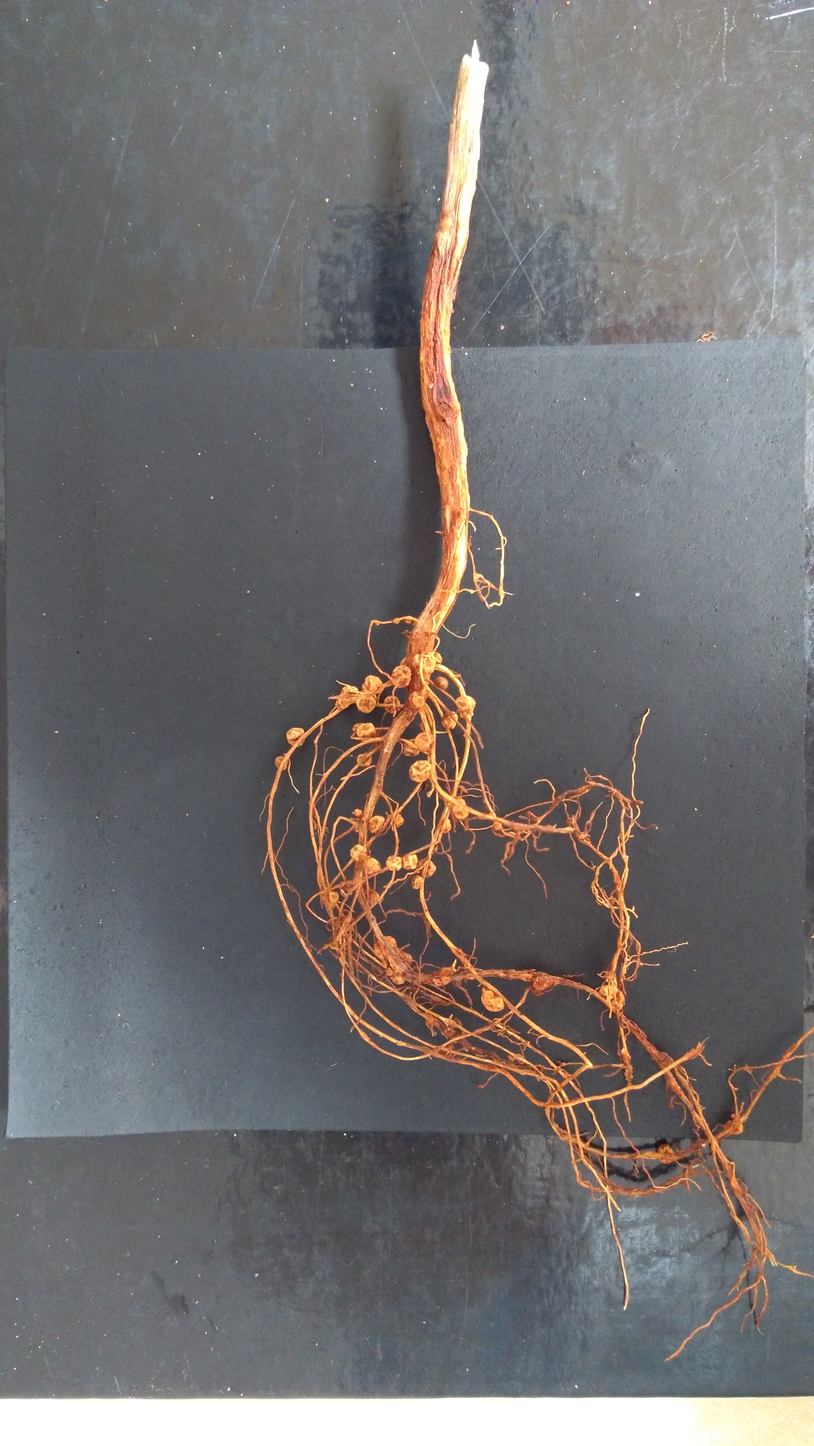nodule: (383, 949, 415, 985), (479, 985, 506, 1013), (407, 758, 433, 784), (372, 934, 398, 960), (389, 664, 414, 691), (335, 684, 359, 712), (449, 795, 472, 823), (453, 693, 477, 719), (412, 653, 438, 676), (431, 966, 457, 988), (530, 974, 555, 996), (360, 674, 384, 696), (655, 1142, 675, 1167), (413, 731, 435, 753), (285, 726, 306, 748), (416, 857, 438, 878), (354, 695, 378, 714), (382, 693, 403, 714), (356, 720, 378, 740), (362, 856, 384, 876), (440, 709, 459, 731), (400, 739, 421, 758), (366, 814, 385, 834), (407, 690, 426, 710), (348, 843, 367, 862), (598, 983, 619, 999), (723, 1119, 744, 1135), (385, 854, 403, 872), (355, 751, 373, 768), (401, 853, 419, 870), (365, 886, 381, 905), (273, 754, 289, 772), (434, 674, 449, 691), (439, 817, 453, 835), (410, 874, 424, 890), (350, 721, 365, 734), (395, 812, 405, 829), (328, 890, 340, 904), (433, 650, 444, 665), (492, 820, 504, 832), (351, 807, 363, 818)
